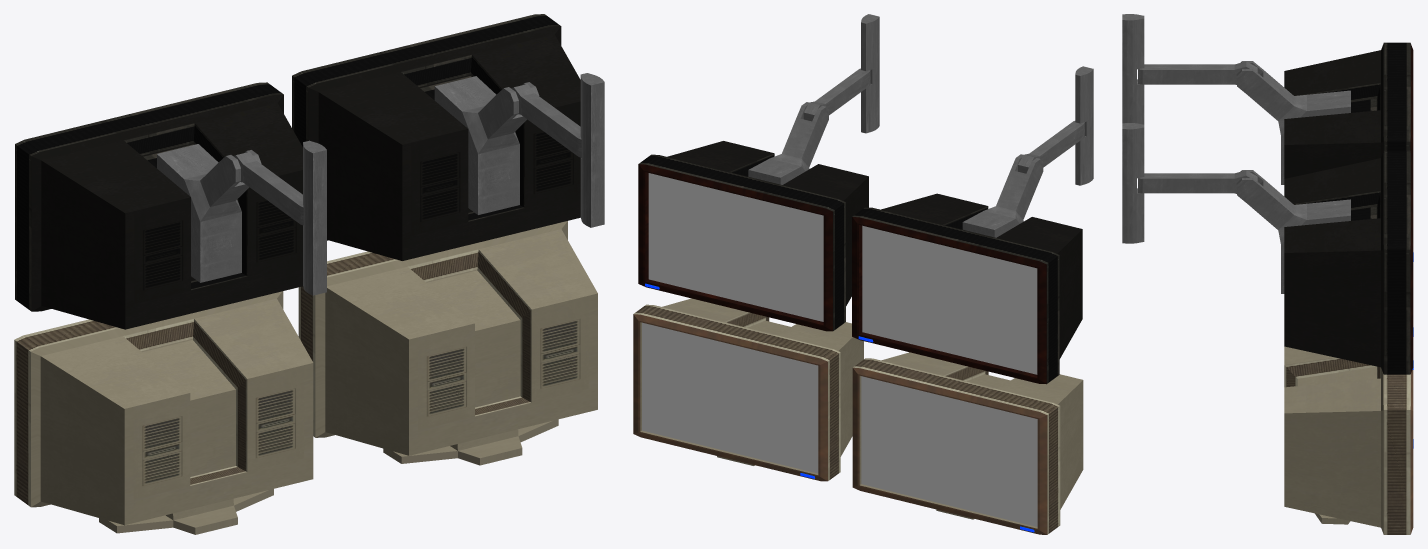
File: Computer.fbx
The picture shows the model from 3 angles, left to right: view 1: azimuth 30°, elevation 25°; view 2: azimuth 150°, elevation 25°; view 3: azimuth 270°, elevation 25°; orthographic projection. The views are drawn at different scales.
Parts seen in each view (by area): view 1: Screen01_Cube.001, Screen03_Cube.002, Screen02_Cube, Screen03.001_Cube.009, CubeMonitorArm01.001_Cube.010, CubeMonitorArm01_Cube.003, CubeMonitorArm03.001_Cube.012, CubeMonitorArm03_Cube.008, CubeMonitorArm02.001_Cube.011, CubeMonitorArm02_Cube.007; view 2: Screen02_Cube, Screen01_Cube.001, Screen03.001_Cube.009, Screen03_Cube.002, CubeMonitorArm01_Cube.003, CubeMonitorArm01.001_Cube.010, CubeMonitorArm03.001_Cube.012, CubeMonitorArm03_Cube.008, CubeMonitorArm02.001_Cube.011, CubeMonitorArm02_Cube.007; view 3: Screen03.001_Cube.009, Screen03_Cube.002, Screen02_Cube, CubeMonitorArm01_Cube.003, CubeMonitorArm01.001_Cube.010, CubeMonitorArm03.001_Cube.012, CubeMonitorArm03_Cube.008, CubeMonitorArm02.001_Cube.011, CubeMonitorArm02_Cube.007.
Part boxes in pixels (left/top/right/bottom): Screen01_Cube.001: left=14, top=291, right=313, bottom=534; Screen03_Cube.002: left=298, top=221, right=597, bottom=465; Screen02_Cube: left=15, top=82, right=302, bottom=329; Screen03.001_Cube.009: left=292, top=14, right=580, bottom=260; CubeMonitorArm01.001_Cube.010: left=434, top=76, right=539, bottom=214; CubeMonitorArm01_Cube.003: left=157, top=144, right=261, bottom=282; CubeMonitorArm03.001_Cube.012: left=580, top=73, right=604, bottom=227; CubeMonitorArm03_Cube.008: left=303, top=140, right=326, bottom=295; CubeMonitorArm02.001_Cube.011: left=511, top=84, right=581, bottom=157; CubeMonitorArm02_Cube.007: left=233, top=152, right=303, bottom=225; Screen02_Cube: left=852, top=193, right=1082, bottom=384; Screen01_Cube.001: left=852, top=352, right=1083, bottom=534; Screen03.001_Cube.009: left=638, top=141, right=868, bottom=331; Screen03_Cube.002: left=633, top=298, right=863, bottom=481; CubeMonitorArm01_Cube.003: left=962, top=154, right=1043, bottom=237; CubeMonitorArm01.001_Cube.010: left=748, top=102, right=828, bottom=184; CubeMonitorArm03.001_Cube.012: left=861, top=14, right=879, bottom=133; CubeMonitorArm03_Cube.008: left=1075, top=66, right=1093, bottom=185; CubeMonitorArm02.001_Cube.011: left=803, top=68, right=870, bottom=121; CubeMonitorArm02_Cube.007: left=1018, top=121, right=1084, bottom=173; Screen03.001_Cube.009: left=1284, top=150, right=1413, bottom=374; Screen03_Cube.002: left=1284, top=346, right=1413, bottom=534; Screen02_Cube: left=1284, top=42, right=1413, bottom=261; CubeMonitorArm01_Cube.003: left=1236, top=61, right=1350, bottom=184; CubeMonitorArm01.001_Cube.010: left=1236, top=170, right=1350, bottom=293; CubeMonitorArm03.001_Cube.012: left=1122, top=123, right=1144, bottom=243; CubeMonitorArm03_Cube.008: left=1122, top=14, right=1144, bottom=124; CubeMonitorArm02.001_Cube.011: left=1138, top=170, right=1257, bottom=193; CubeMonitorArm02_Cube.007: left=1138, top=61, right=1257, bottom=84.
Bounding box in the file's own units: 773 × 624 × 452.
9 materials, 6 textured.
